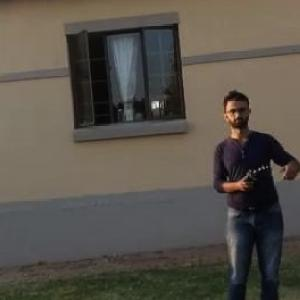follow: (201, 83, 300, 299)
